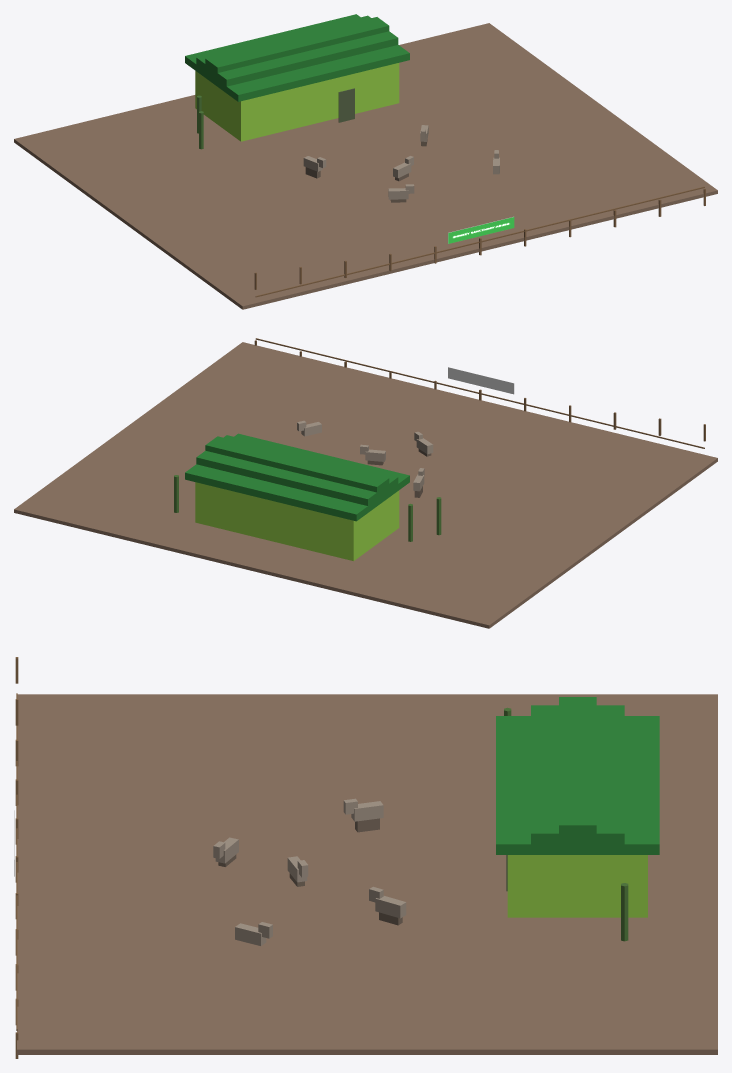
The model's file is donkey_sanctuary.glb.
3 views of the same model, one above another, from view 1: azimuth 30°, elevation 25°; view 2: azimuth 150°, elevation 25°; view 3: azimuth 270°, elevation 25° (orthographic). The views are drawn at different scales.
Parts seen in each view (by area): view 1: donkey_sanctuary_lod0; view 2: donkey_sanctuary_lod0; view 3: donkey_sanctuary_lod0.
Boxes of the visible parts, box(x1,y1,x2,y2) form: donkey_sanctuary_lod0: box(14, 14, 717, 309); donkey_sanctuary_lod0: box(14, 338, 717, 628); donkey_sanctuary_lod0: box(14, 657, 717, 1058).
Size of what is drawn, in the model's own units: 36 by 6.1 by 30.13.
11 materials, 1 textured.
